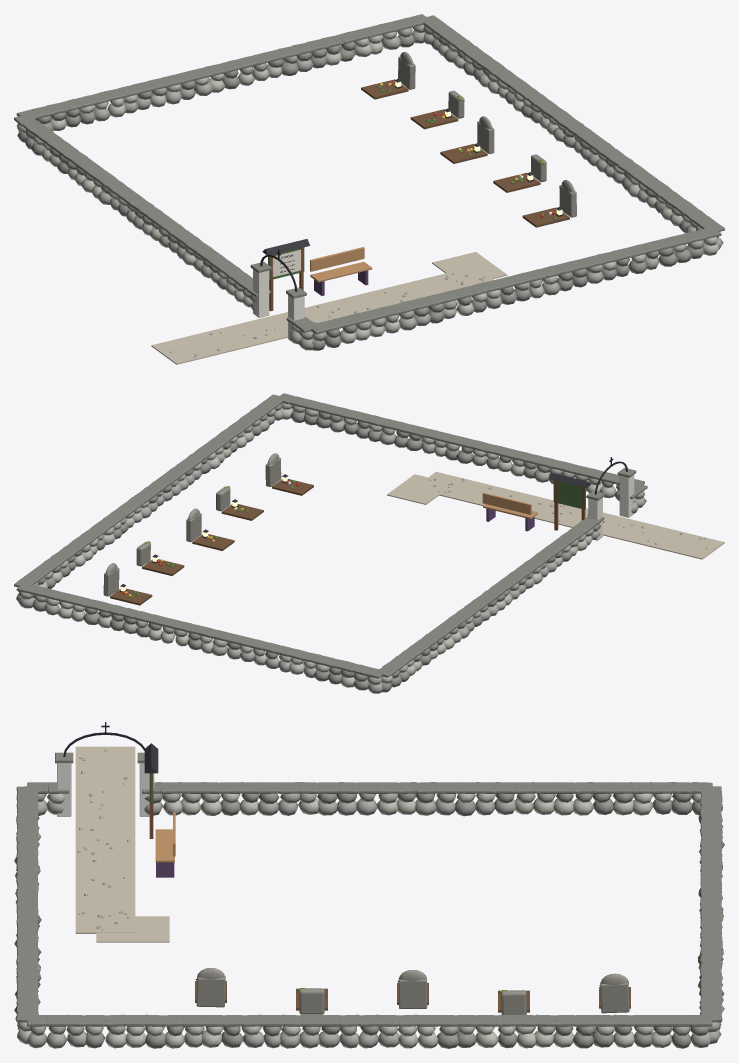
Rendered from church-yard.glb.
3 views of the same model, one above another, from view 1: azimuth 30°, elevation 25°; view 2: azimuth 150°, elevation 25°; view 3: azimuth 270°, elevation 25° (orthographic). The views are drawn at different scales.
Visible parts, largest first — view 1: ChurchYard_st_top, ChurchYard_st2, ChurchYard_st3, ChurchYard_gravel, ChurchYard_st1, ChurchYard_soil, ChurchYard_stone_old, ChurchYard_wood, ChurchYard_post_white, ChurchYard_paper; view 2: ChurchYard_st_top, ChurchYard_st2, ChurchYard_st3, ChurchYard_gravel, ChurchYard_st1, ChurchYard_soil, ChurchYard_stone_old, ChurchYard_post_white, ChurchYard_wood, ChurchYard_board; view 3: ChurchYard_st_top, ChurchYard_gravel, ChurchYard_st3, ChurchYard_st1, ChurchYard_st2, ChurchYard_stone_old, ChurchYard_post_white, ChurchYard_wood, ChurchYard_soil.
Boxes of the visible parts, x1=… form: ChurchYard_st_top: x1=14, y1=14, x2=724, y2=334; ChurchYard_st2: x1=17, y1=25, x2=704, y2=350; ChurchYard_st3: x1=16, y1=31, x2=719, y2=356; ChurchYard_gravel: x1=151, y1=252, x2=507, y2=364; ChurchYard_st1: x1=18, y1=25, x2=723, y2=357; ChurchYard_soil: x1=361, y1=79, x2=569, y2=227; ChurchYard_stone_old: x1=398, y1=52, x2=576, y2=217; ChurchYard_wood: x1=310, y1=247, x2=372, y2=282; ChurchYard_post_white: x1=253, y1=269, x2=304, y2=343; ChurchYard_paper: x1=272, y1=250, x2=301, y2=276; ChurchYard_st_top: x1=14, y1=393, x2=647, y2=678; ChurchYard_st2: x1=18, y1=411, x2=619, y2=692; ChurchYard_st3: x1=38, y1=403, x2=707, y2=687; ChurchYard_gravel: x1=387, y1=471, x2=724, y2=559; ChurchYard_st1: x1=16, y1=404, x2=705, y2=693; ChurchYard_soil: x1=110, y1=479, x2=313, y2=605; ChurchYard_stone_old: x1=103, y1=453, x2=281, y2=596; ChurchYard_post_white: x1=588, y1=475, x2=634, y2=540; ChurchYard_wood: x1=482, y1=492, x2=537, y2=519; ChurchYard_board: x1=553, y1=480, x2=585, y2=509; ChurchYard_st_top: x1=16, y1=752, x2=722, y2=1026; ChurchYard_gravel: x1=75, y1=746, x2=169, y2=942; ChurchYard_st3: x1=15, y1=749, x2=724, y2=1048; ChurchYard_st1: x1=14, y1=757, x2=723, y2=1048; ChurchYard_st2: x1=14, y1=793, x2=724, y2=1048; ChurchYard_stone_old: x1=196, y1=968, x2=629, y2=1014; ChurchYard_post_white: x1=57, y1=763, x2=154, y2=816; ChurchYard_wood: x1=155, y1=812, x2=175, y2=862; ChurchYard_soil: x1=195, y1=981, x2=630, y2=1012.
Bounding box in the file's own units: 15.7 × 2.21 × 15.49.
